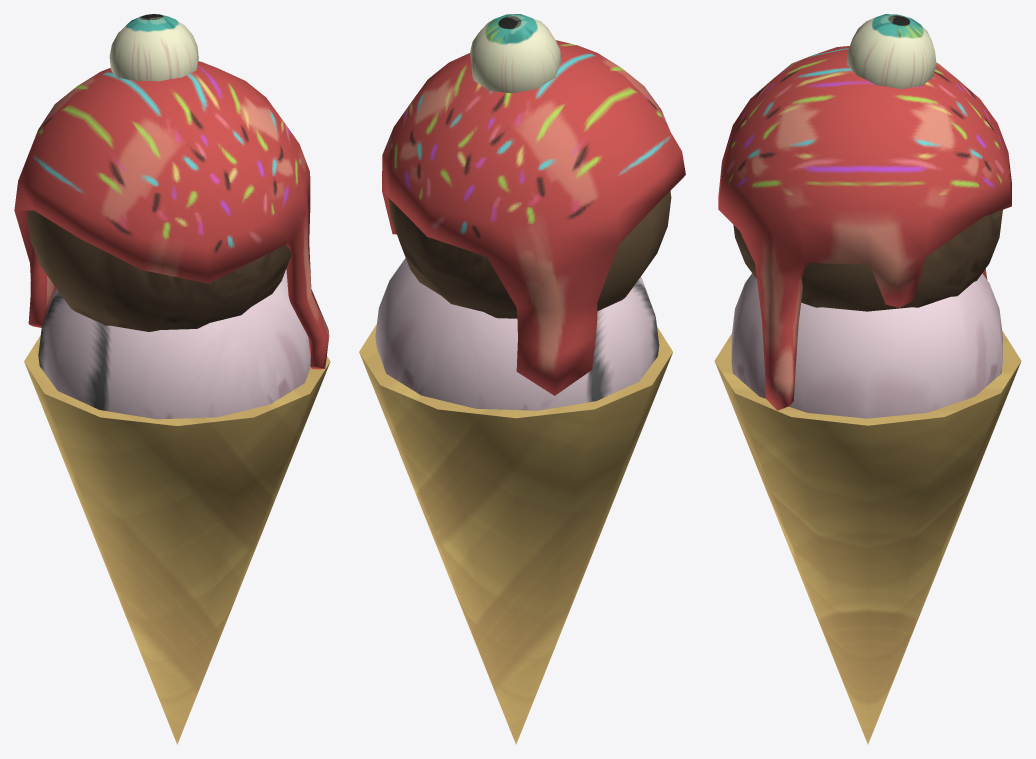
File: IceCream.fbx
3 views of the same model, side by side, from view 1: azimuth 30°, elevation 25°; view 2: azimuth 150°, elevation 25°; view 3: azimuth 270°, elevation 25° (orthographic). The views are drawn at different scales.
Visible parts, largest first — view 1: Ice Cream; view 2: Ice Cream; view 3: Ice Cream.
Part boxes in pixels (x1,y1,x2,y2): Ice Cream: (14, 14, 330, 744); Ice Cream: (359, 14, 685, 744); Ice Cream: (714, 14, 1021, 744).
Bounding box in the file's own units: 13.98 × 34.7 × 13.38.
